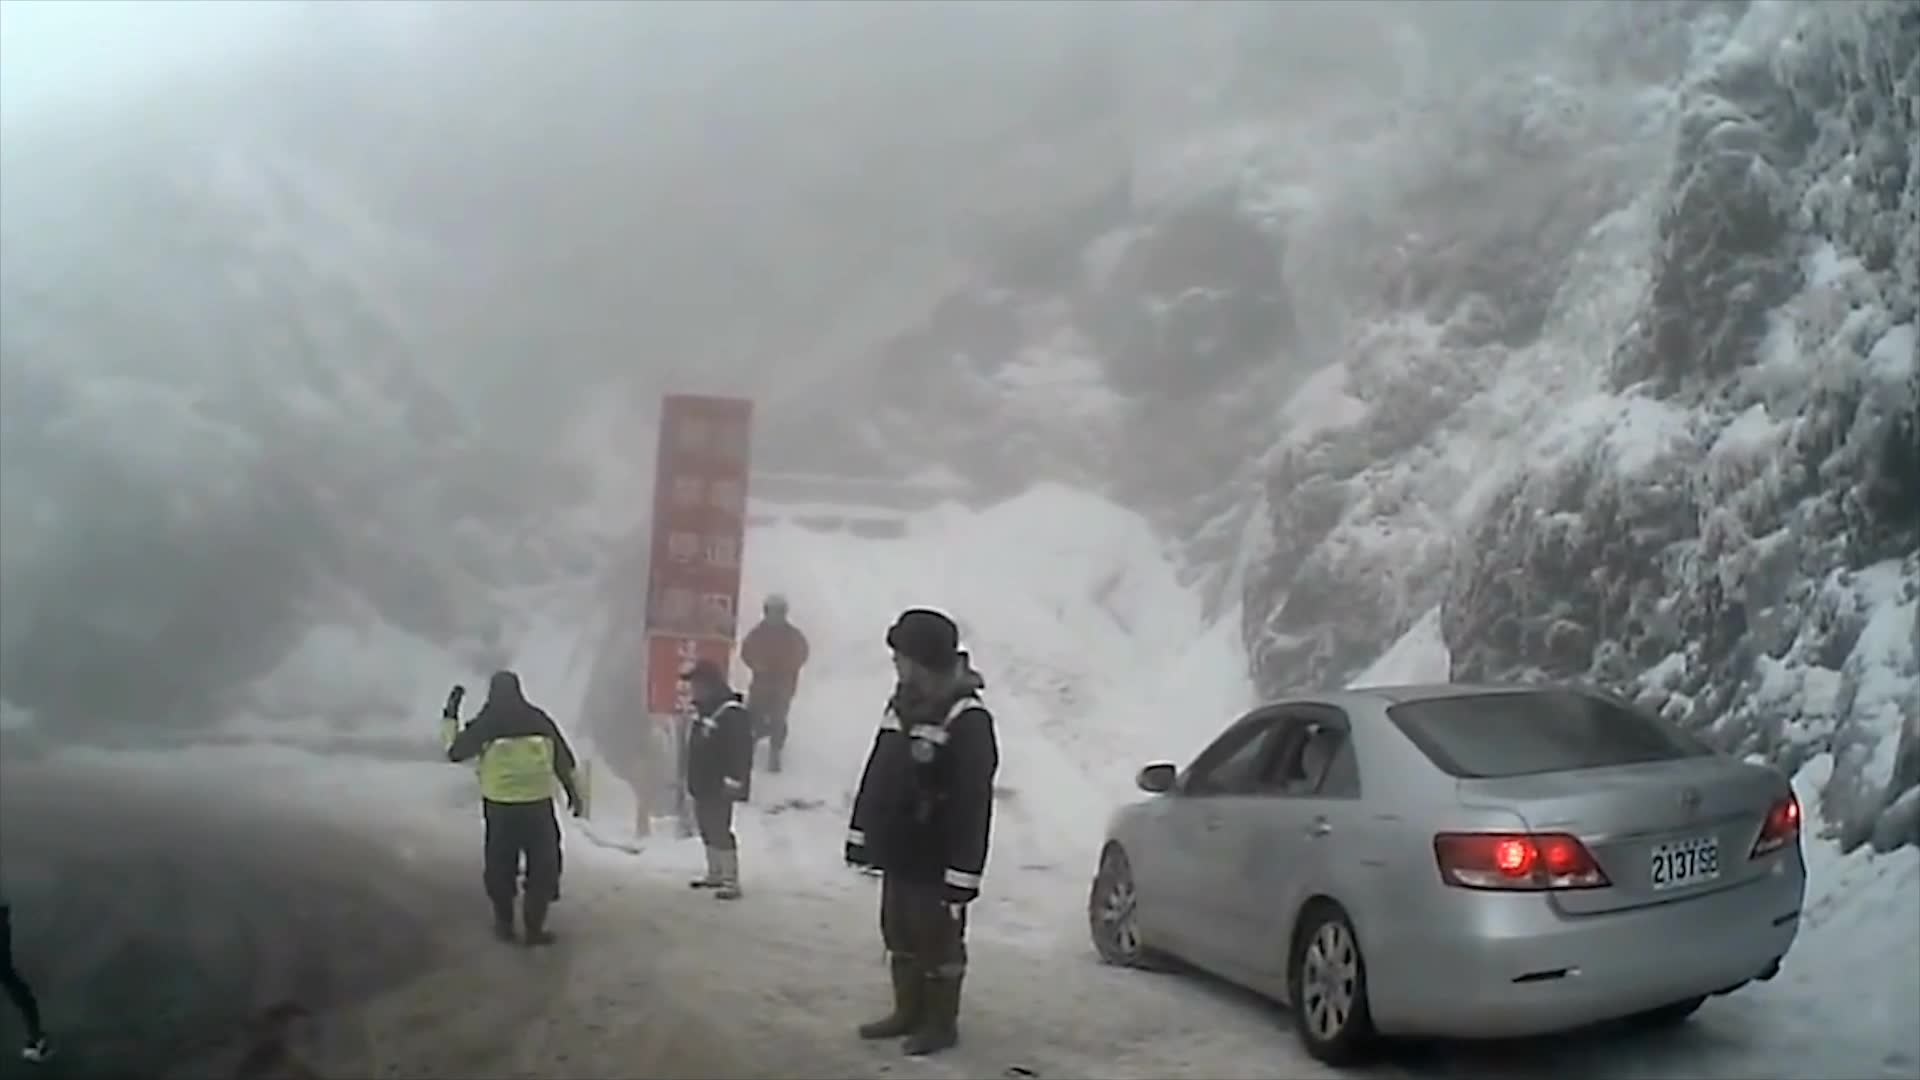pedestrian: (848, 607, 1001, 1055), (431, 665, 589, 937), (683, 655, 762, 898), (743, 585, 820, 780)
vehicle: (1087, 677, 1805, 1062)
